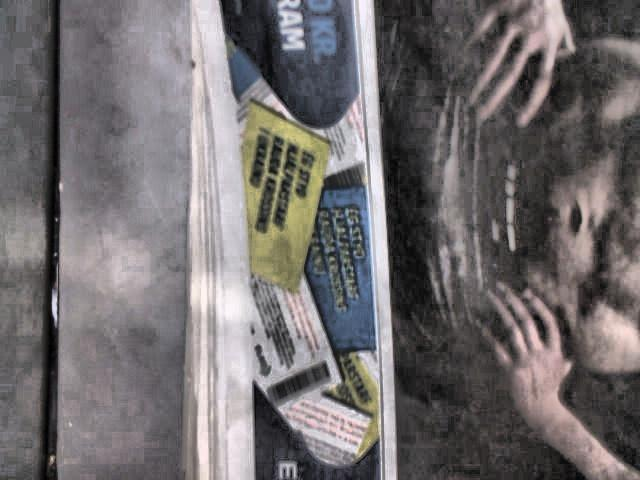Paper: (185, 0, 640, 480)
